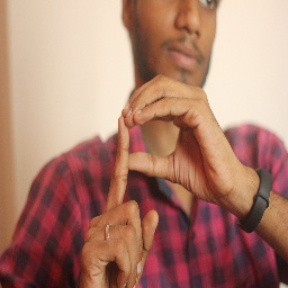P: (76, 76, 236, 282)
